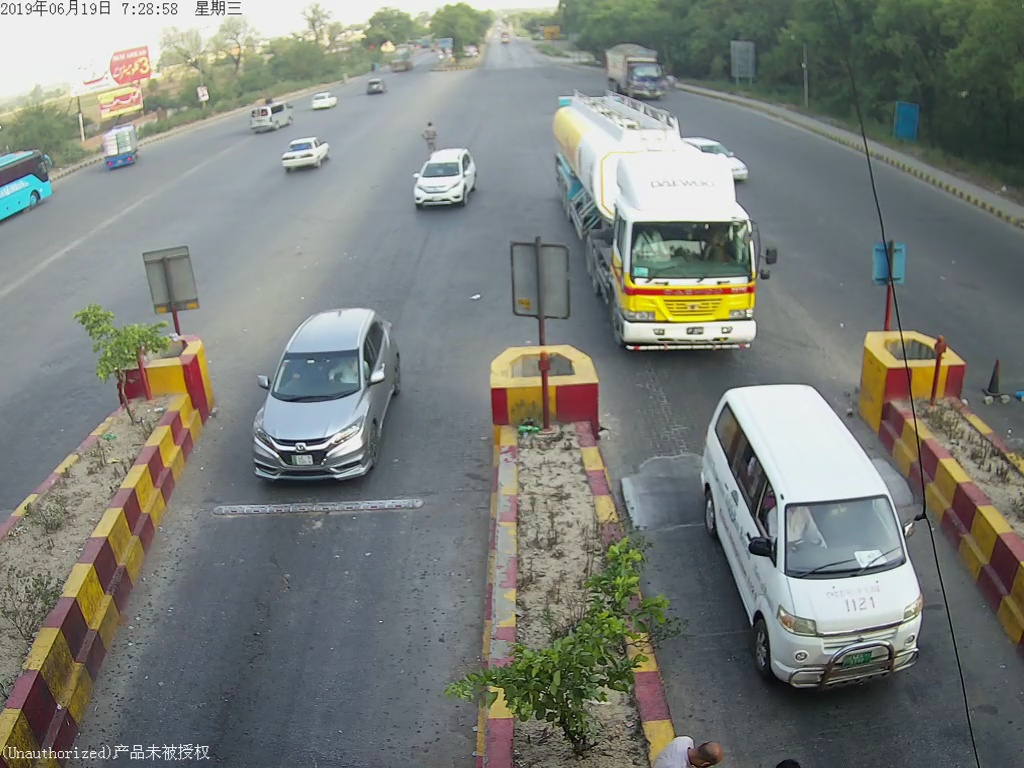Cat-1: (696, 381, 948, 700), (246, 297, 409, 484), (403, 150, 484, 210)
Cat-5: (545, 91, 779, 357)
